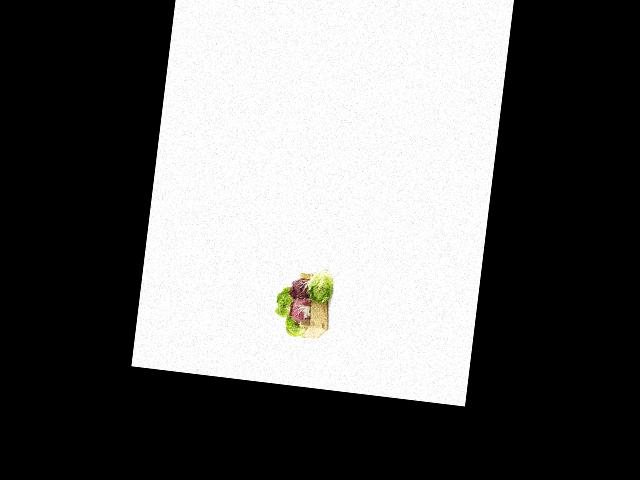lettuce: (274, 285, 299, 318)
